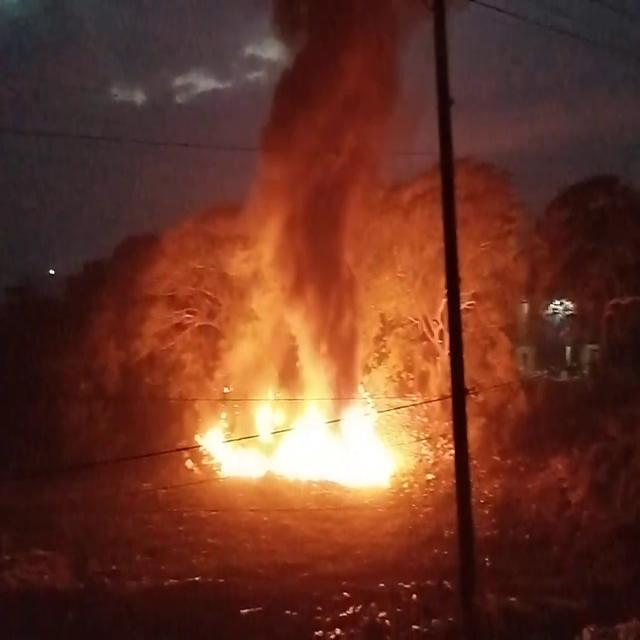Fire: (180, 360, 436, 500)
Smoke: (226, 0, 479, 371)
